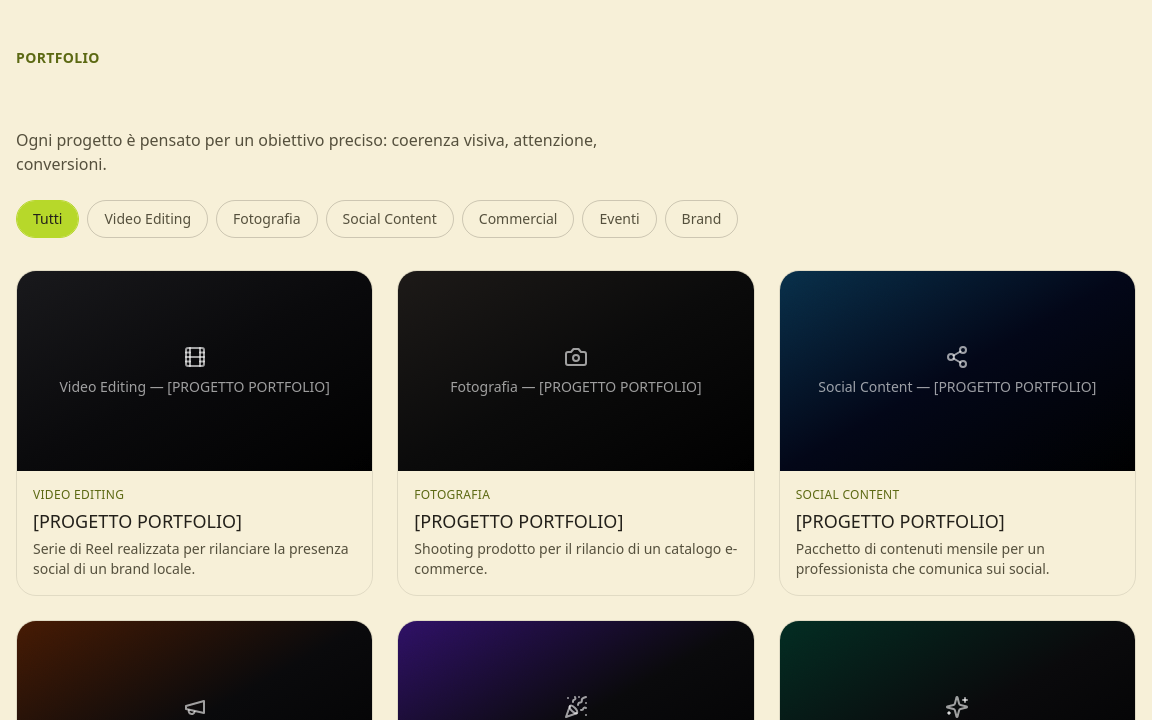
it: PortfolioPage › filters projects by category
This screenshot has width=1152, height=720.
Click the button "Fotografia" at {"x": 267, "y": 219}, box [216,200,318,238]
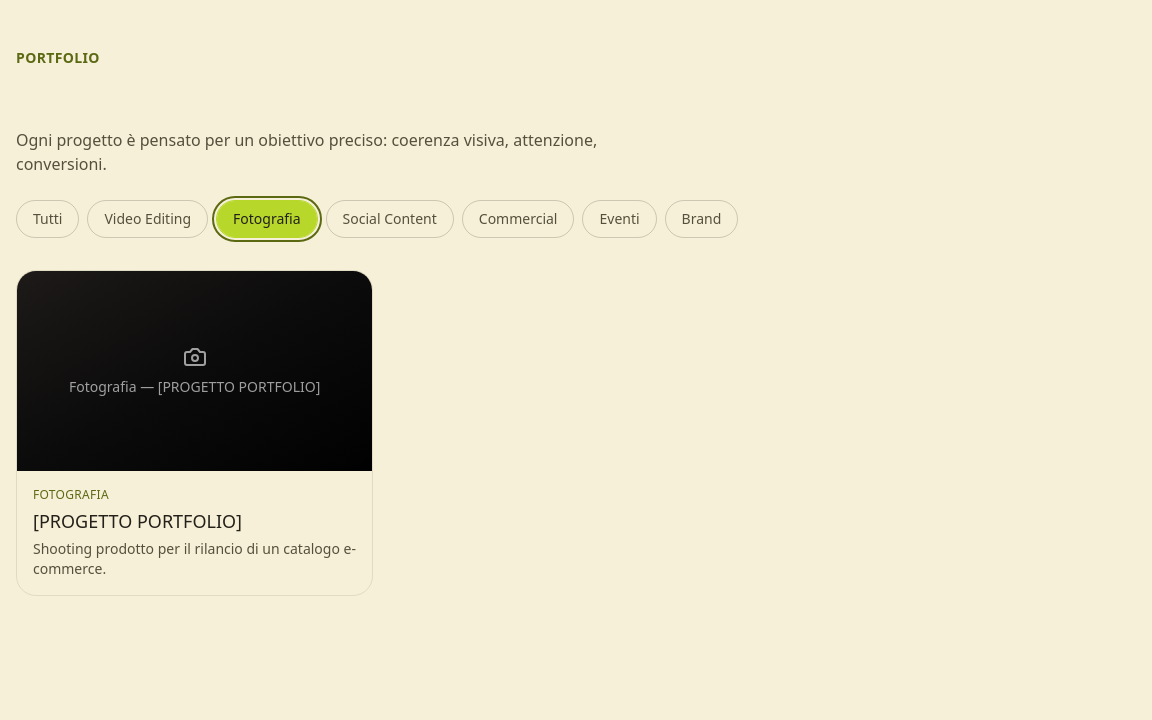
expect the number of links is 1: met, box [16,270,373,596]
